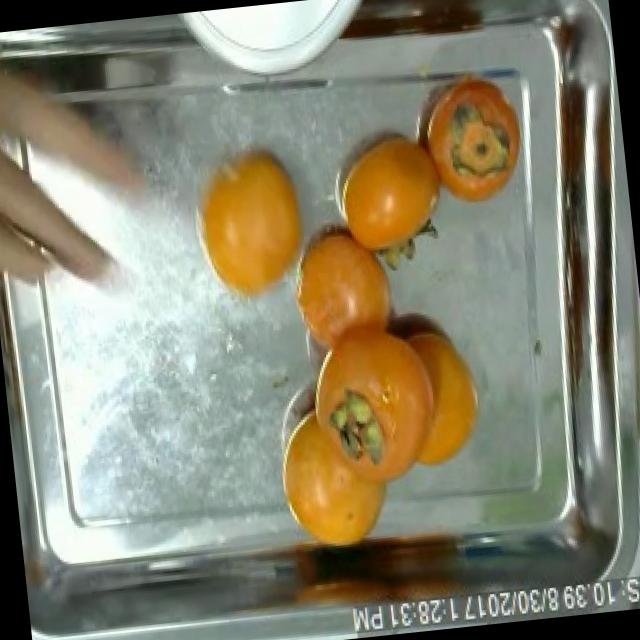Fruit: (312, 291, 500, 498), (176, 124, 328, 321), (266, 388, 405, 570), (396, 54, 542, 223), (320, 112, 456, 268), (322, 0, 501, 73)
